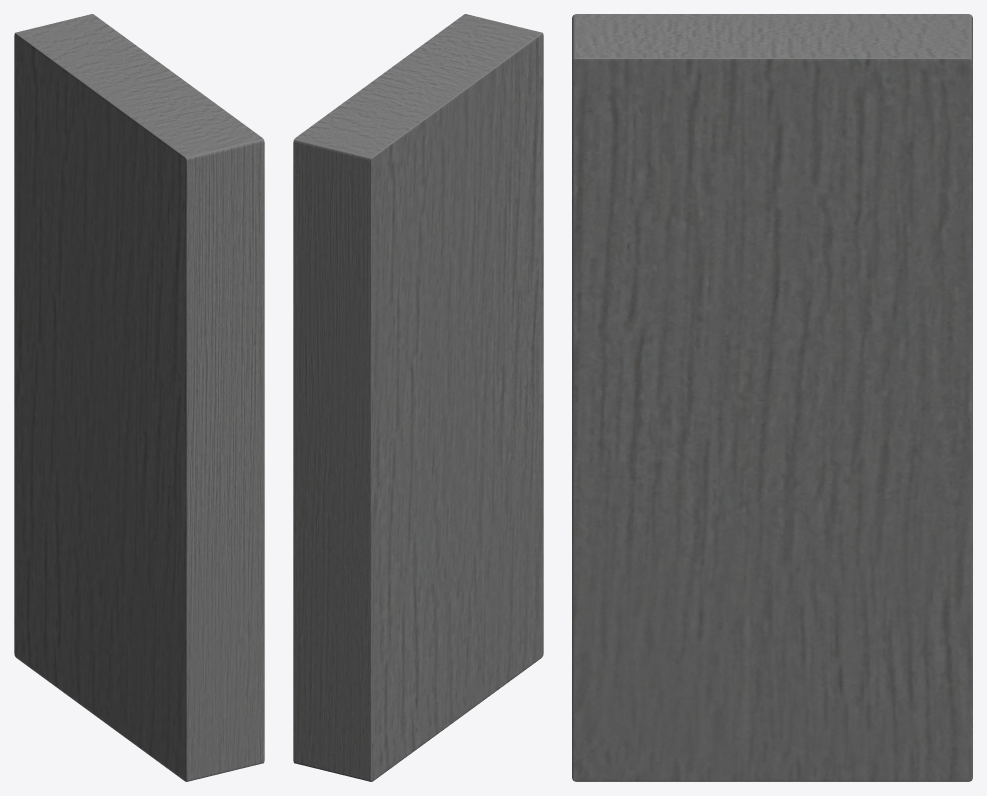
The model's file is Skinny Rectangle UVed OBJ.obj.
3 views of the same model, side by side, from view 1: azimuth 30°, elevation 25°; view 2: azimuth 150°, elevation 25°; view 3: azimuth 270°, elevation 25° (orthographic). The views are drawn at different scales.
Visible parts, largest first — view 1: pCube14; view 2: pCube14; view 3: pCube14.
Part boxes in pixels (x1,y1,x2,y2): pCube14: (14, 14, 264, 781); pCube14: (293, 14, 543, 781); pCube14: (572, 14, 972, 781).
Bounding box in the file's own units: 24.99 × 190 × 95.25.
1 material, 1 textured.
